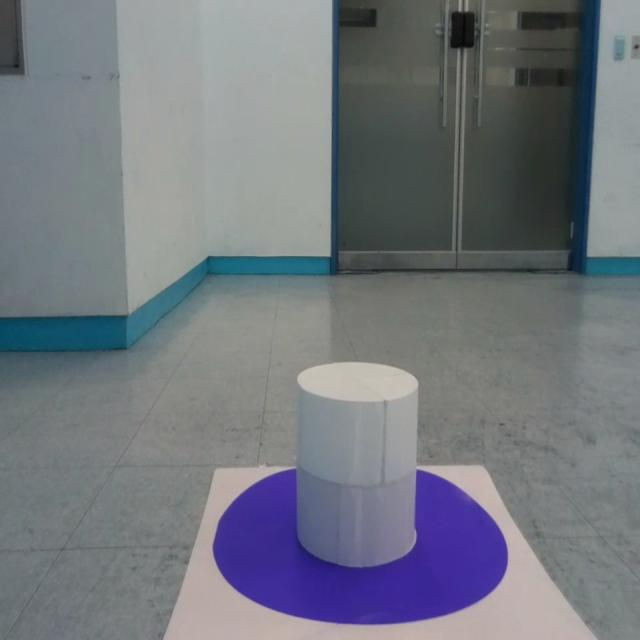cylinder: (294, 362, 420, 567)
